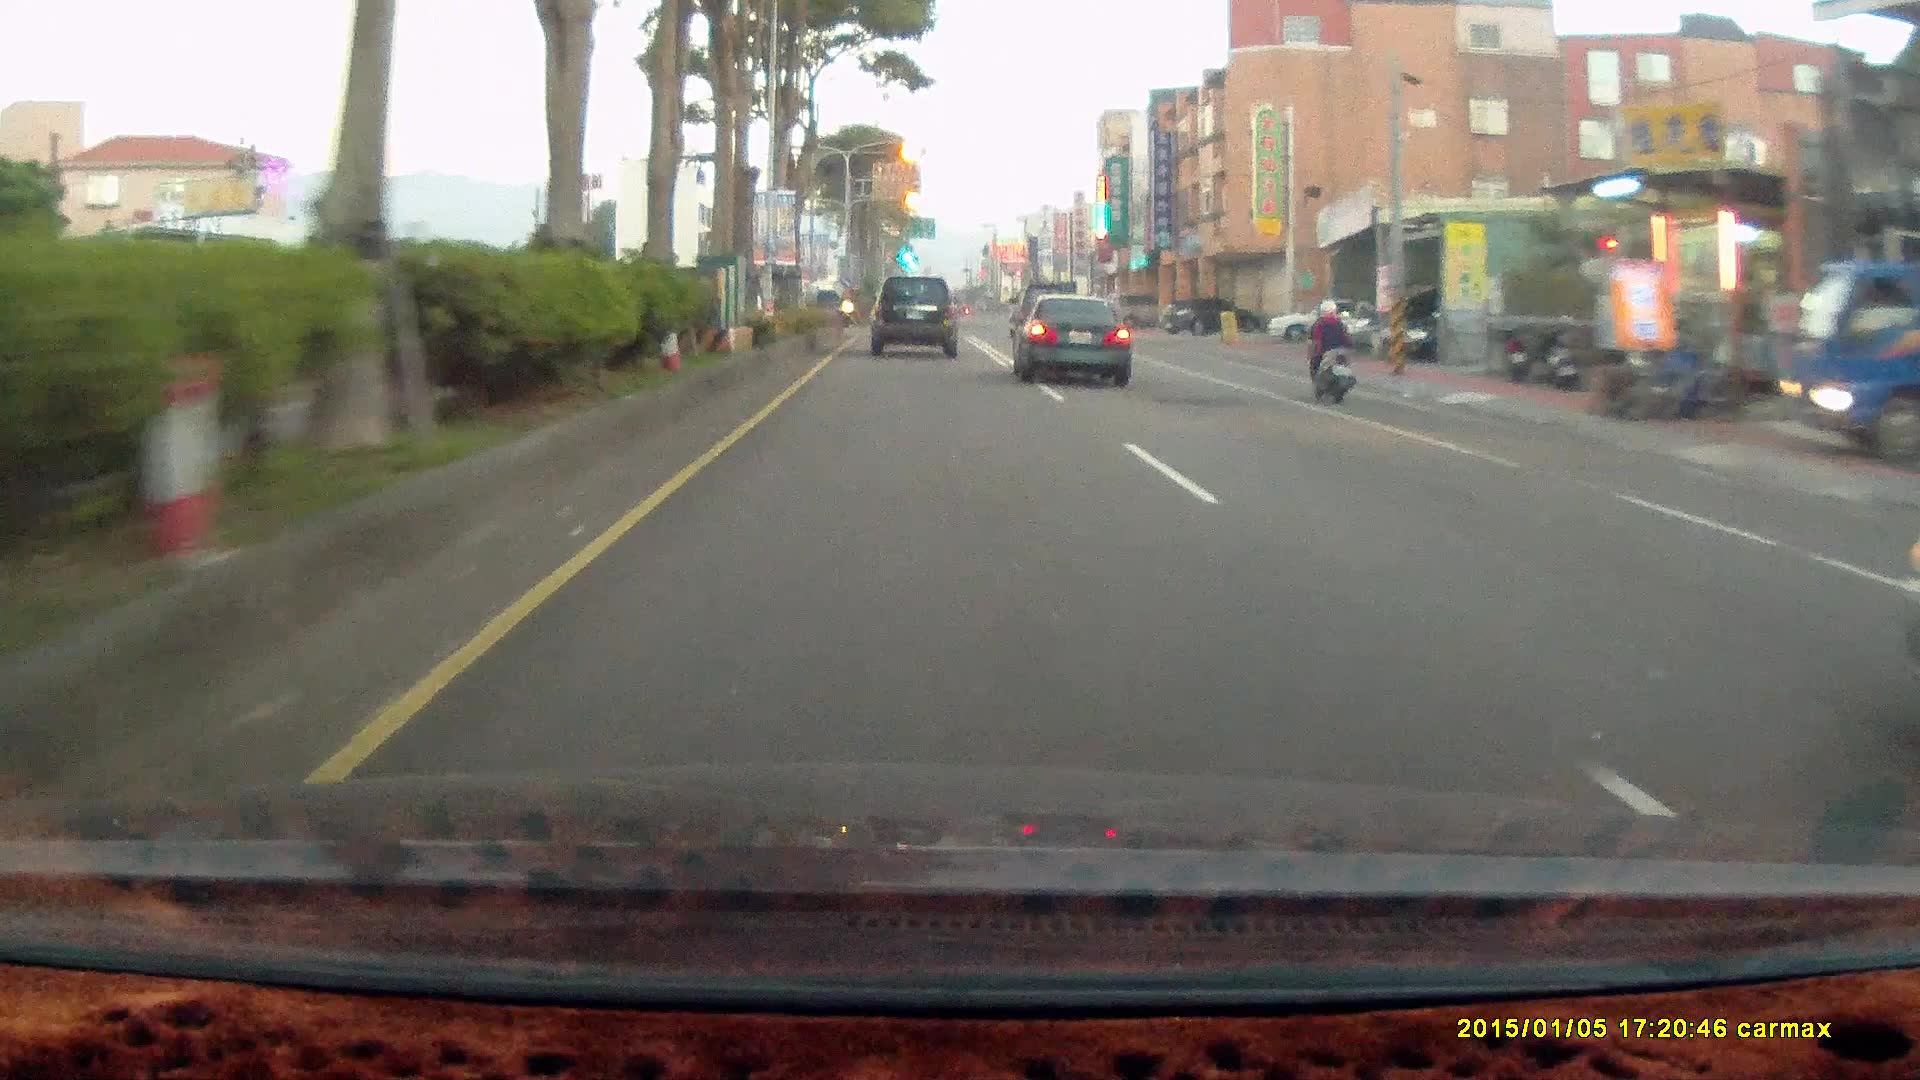rider: (1296, 289, 1367, 416), (1297, 294, 1356, 400)
vehicle: (1774, 259, 1920, 464), (1775, 259, 1920, 461), (1017, 293, 1140, 389), (1009, 291, 1131, 384), (1393, 297, 1523, 362), (872, 273, 961, 360), (869, 274, 958, 357), (1267, 296, 1391, 344), (1165, 296, 1260, 341), (1157, 296, 1257, 336), (1107, 291, 1180, 328)
